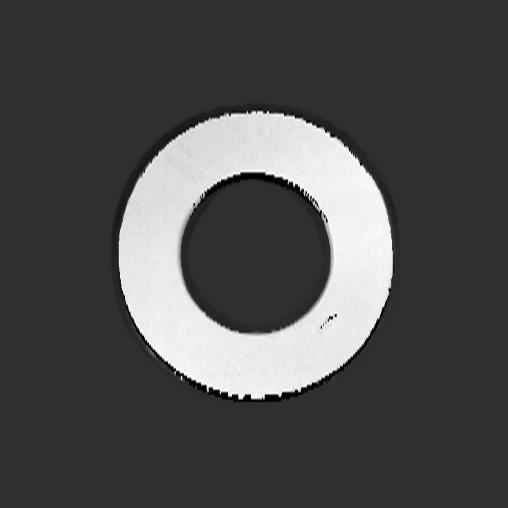defect: (320, 311, 338, 333)
